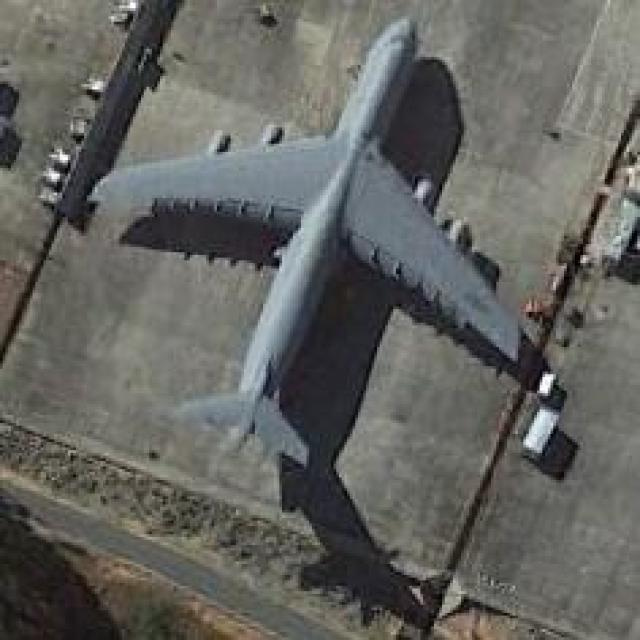C-5_TopDown: (84, 14, 533, 624)
